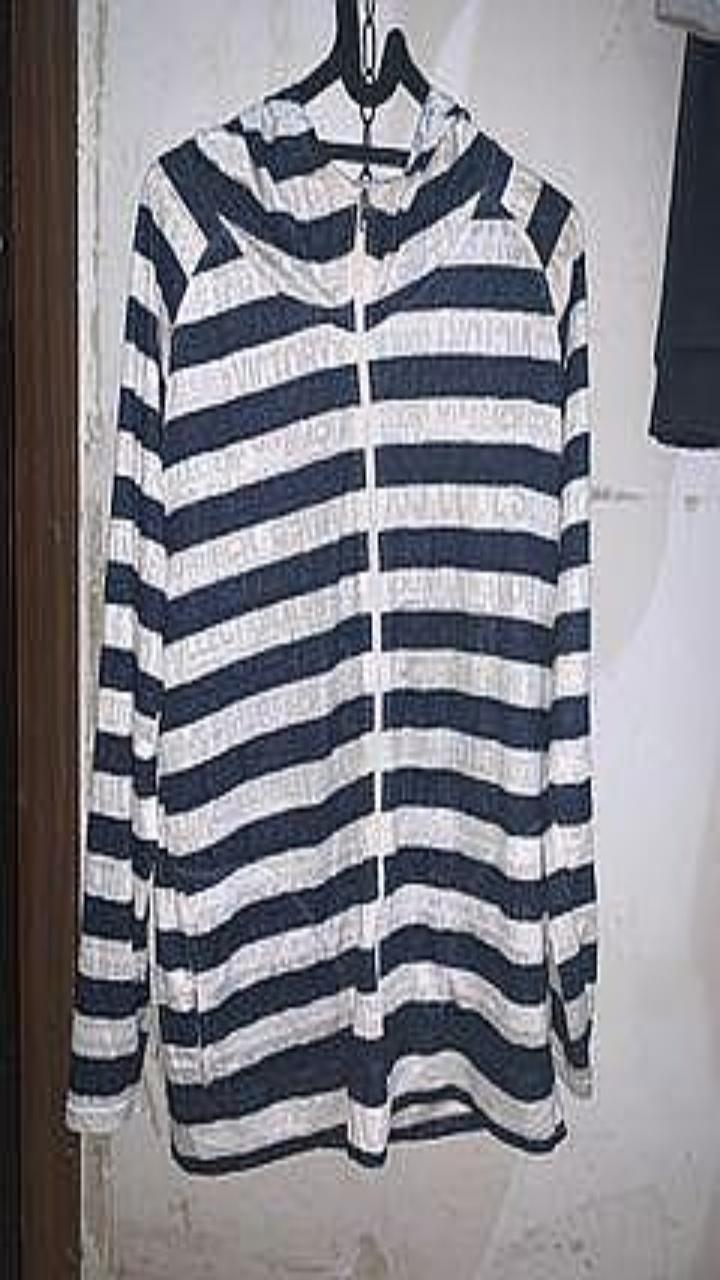T-Shirt: (66, 87, 596, 1173)
